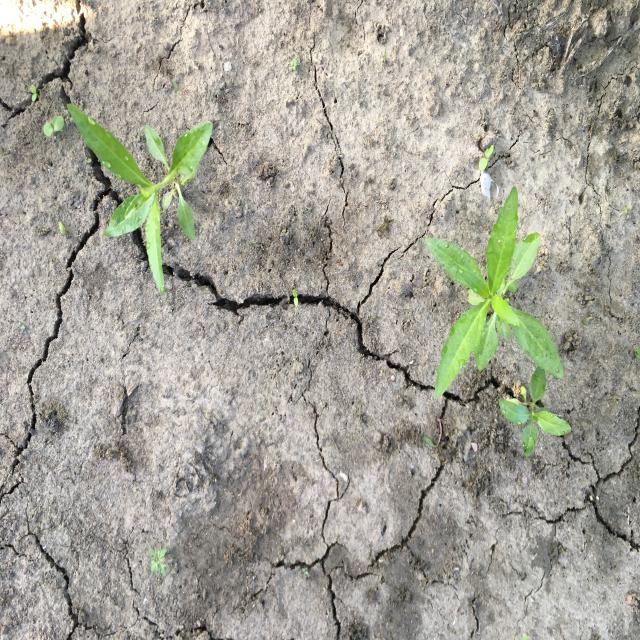Eclipta: (423, 185, 565, 402), (66, 103, 214, 297), (497, 366, 573, 460)
